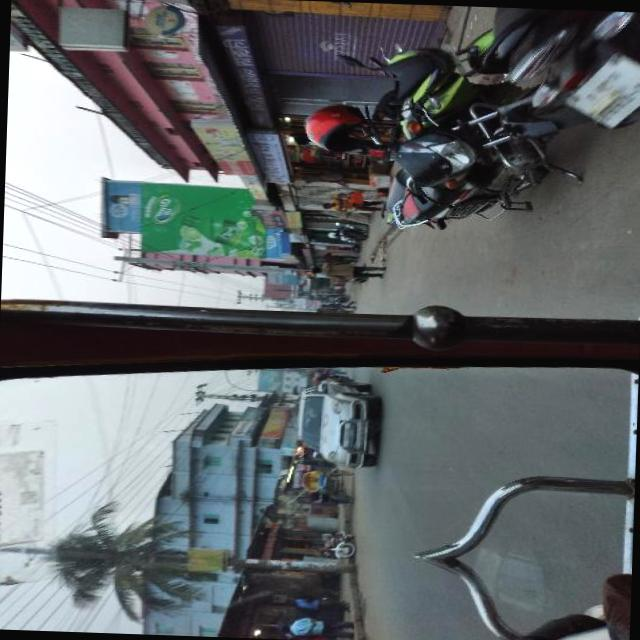car: (294, 376, 382, 469)
motorcycle: (353, 107, 600, 240), (341, 17, 499, 151), (484, 8, 640, 134), (300, 466, 358, 502), (316, 530, 356, 557), (327, 220, 366, 242)
